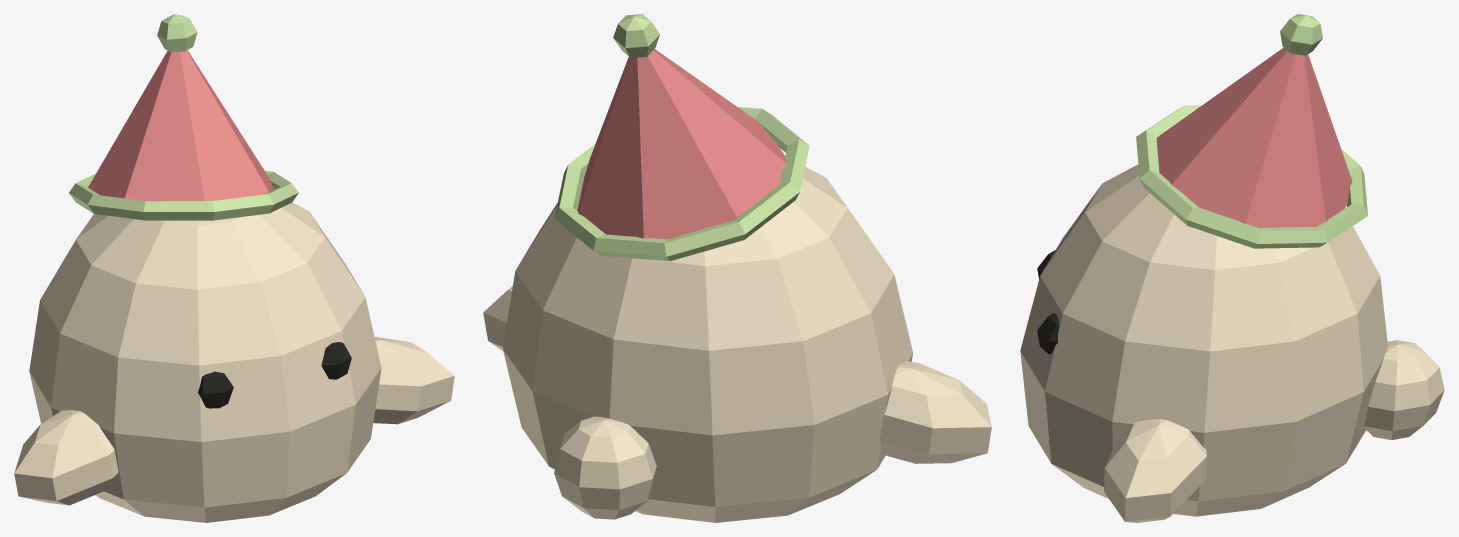
Rendered from blob-forest-1.glb.
3 views of the same model, side by side, from view 1: azimuth 30°, elevation 25°; view 2: azimuth 150°, elevation 25°; view 3: azimuth 270°, elevation 25° (orthographic). The views are drawn at different scales.
Visible parts, largest first — view 1: blob-forest-1; view 2: blob-forest-1; view 3: blob-forest-1.
Part boxes in pixels (x1,y1,x2,y2): blob-forest-1: [14, 14, 454, 522]; blob-forest-1: [483, 14, 991, 522]; blob-forest-1: [1020, 14, 1444, 522].
Size of the model in its own units: 0.974 by 0.9 by 0.7653.
